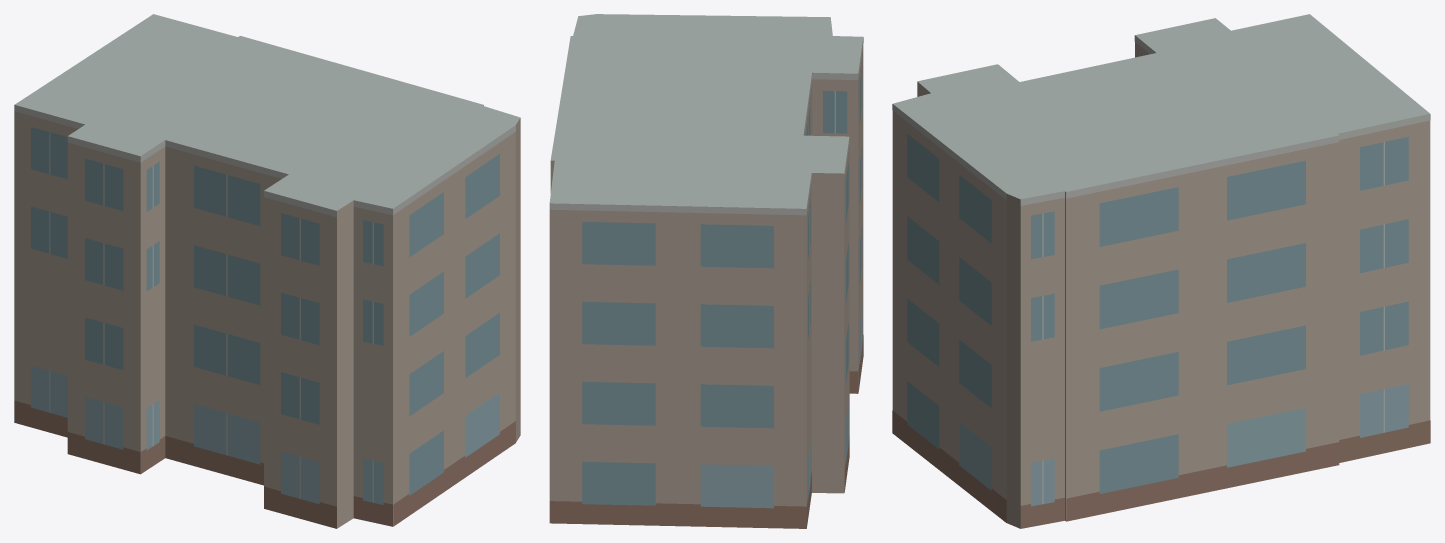
Rendered from survey-upis-32741958.glb.
3 renders of one model, left to right at view 1: azimuth 30°, elevation 25°; view 2: azimuth 150°, elevation 25°; view 3: azimuth 270°, elevation 25°, orthographic. The views are drawn at different scales.
Parts seen in each view (by area): view 1: survey-upis-32741958.tmp; view 2: survey-upis-32741958.tmp; view 3: survey-upis-32741958.tmp.
Part boxes in pixels (x1,y1,x2,y2): survey-upis-32741958.tmp: (14, 14, 520, 528); survey-upis-32741958.tmp: (549, 14, 863, 528); survey-upis-32741958.tmp: (892, 14, 1430, 528).
Size of the model in its own units: 14.73 by 12.2 by 18.06.
